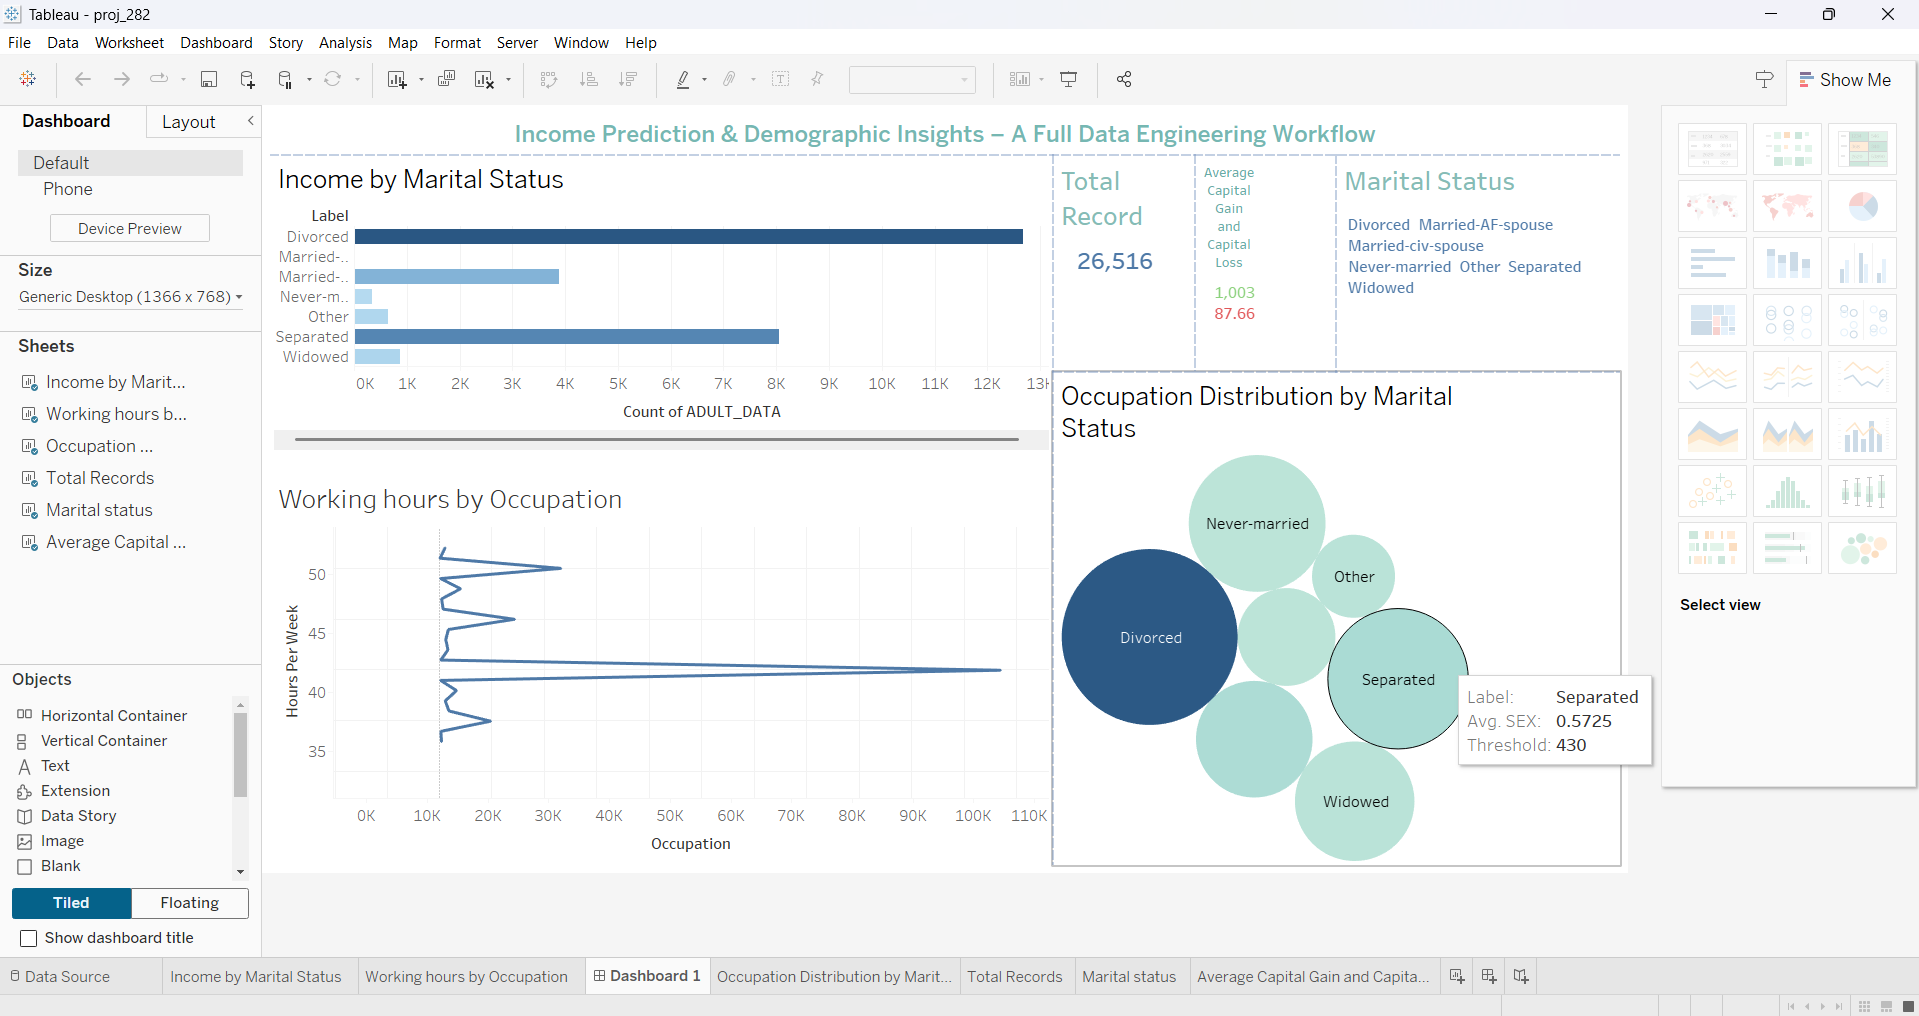

The dashboard page shown, as its layout file describes it:
{"tool":"tableau","page":{"name":"Dashboard 1","canvas":[1366,768],"ordinal":0},"visuals":[{"type":"text","box":[8,8,1350,42]},{"type":"worksheet","title":"Income by Marital Status","mark":"Automatic","rows":["LABEL"],"cols":["ADULT_DATA (PIPELINE_DB.ADULT_DATA)_6E4F263BF53442B4B7FF0F8A"],"box":[8,50,783,317.6]},{"type":"worksheet","title":"Total Records","mark":"Automatic","box":[791,50,141.7,217]},{"type":"worksheet","title":"Average Capital Gain and Capital Loss","mark":"Automatic","box":[932.7,50,141.7,173]},{"type":"worksheet","title":"Marital status","mark":"Automatic","box":[1074.5,50,283.5,217]},{"type":"worksheet","title":"Occupation Distribution by Marital Status","mark":"Circle","box":[791,267,567,493]},{"type":"worksheet","title":"Working hours by Occupation","mark":"Automatic","rows":["HOURS_PER_WEEK"],"cols":["OCCUPATION"],"box":[8,367.5,783,392.4]}]}

Visuals, with their boxes on the page's 1366x768 design canvas (x1, y1, x2, y2). These are canvas units, not pixel positions in the 1919x1016 screenshot, which may show the page scaled, cropped or inside an application window:
text: {"left": 8, "top": 8, "right": 1358, "bottom": 50}
"Income by Marital Status" worksheet: {"left": 8, "top": 50, "right": 791, "bottom": 368}
"Total Records" worksheet: {"left": 791, "top": 50, "right": 933, "bottom": 267}
"Average Capital Gain and Capital Loss" worksheet: {"left": 933, "top": 50, "right": 1074, "bottom": 223}
"Marital status" worksheet: {"left": 1074, "top": 50, "right": 1358, "bottom": 267}
"Occupation Distribution by Marital Status" worksheet (Circle marks): {"left": 791, "top": 267, "right": 1358, "bottom": 760}
"Working hours by Occupation" worksheet: {"left": 8, "top": 368, "right": 791, "bottom": 760}
